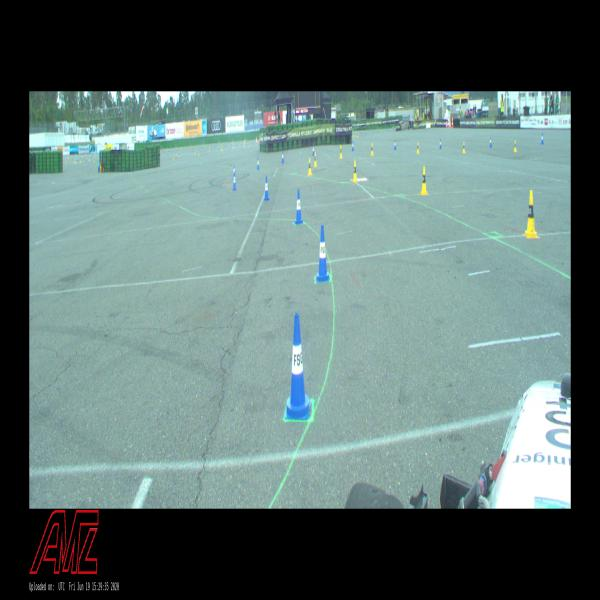blue_cone: (285, 313, 311, 419), (316, 226, 329, 281), (294, 188, 303, 224), (264, 176, 269, 200), (232, 172, 236, 190), (232, 164, 236, 180), (256, 157, 260, 170), (541, 133, 544, 144), (312, 144, 315, 155), (489, 136, 492, 147), (439, 139, 442, 149), (282, 151, 284, 162), (394, 140, 396, 150), (352, 141, 354, 151)
yellow_cone: (525, 190, 537, 238), (420, 167, 428, 194), (352, 160, 357, 182), (308, 158, 312, 176), (314, 152, 317, 166), (462, 142, 465, 153), (340, 145, 342, 158), (514, 140, 516, 152), (417, 142, 419, 153), (371, 144, 373, 155)
